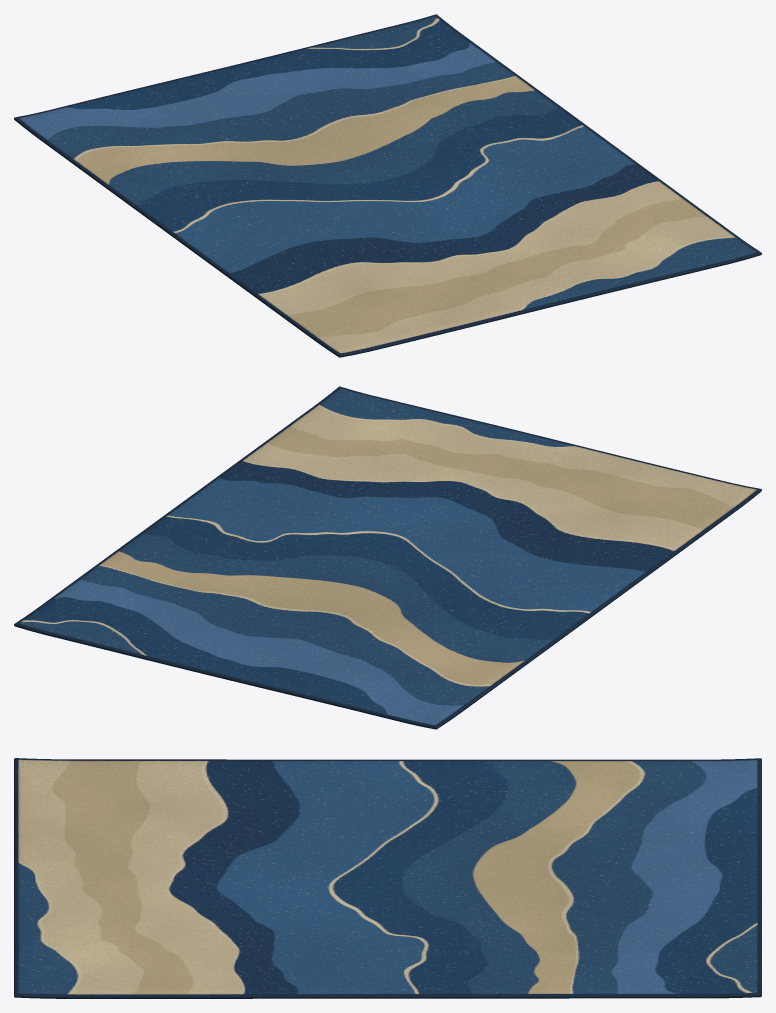
The model's file is rug-motion-marine.02fe7ad3.glb.
The picture shows the model from 3 angles, top to bottom: view 1: azimuth 30°, elevation 25°; view 2: azimuth 150°, elevation 25°; view 3: azimuth 270°, elevation 25°; orthographic projection. The views are drawn at different scales.
Visible parts, largest first — view 1: rug-motion-marine; view 2: rug-motion-marine; view 3: rug-motion-marine.
Boxes of the visible parts, x1,y1,x2,y2 form: rug-motion-marine: (14, 14, 761, 357); rug-motion-marine: (14, 386, 761, 729); rug-motion-marine: (14, 758, 761, 998).
Bounding box in the file's own units: 2.1 × 0.0205 × 2.8.
1 material, 1 textured.
